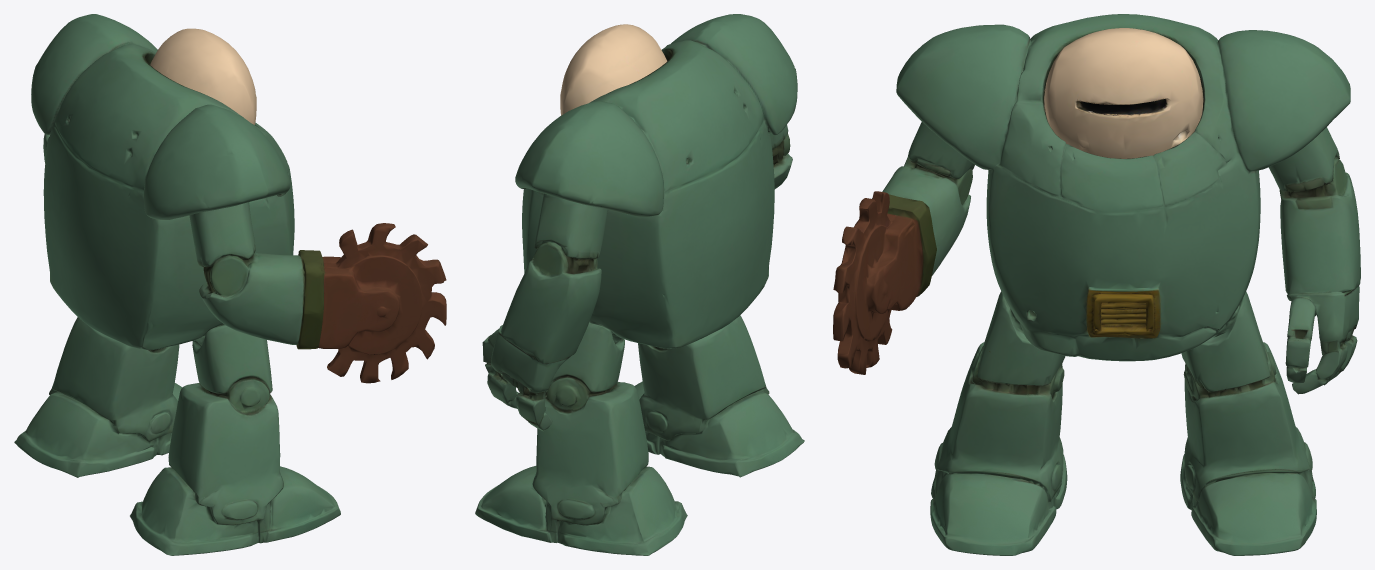
3 views of the same model, side by side, from view 1: azimuth 30°, elevation 25°; view 2: azimuth 150°, elevation 25°; view 3: azimuth 270°, elevation 25° (orthographic). The views are drawn at different scales.
Parts seen in each view (by area): view 1: tripo_node_32ba0f6c-65ed-4cb9-8685-bdfb19b47047; view 2: tripo_node_32ba0f6c-65ed-4cb9-8685-bdfb19b47047; view 3: tripo_node_32ba0f6c-65ed-4cb9-8685-bdfb19b47047.
Boxes of the visible parts, x1=… form: tripo_node_32ba0f6c-65ed-4cb9-8685-bdfb19b47047: x1=14, y1=14, x2=446, y2=555; tripo_node_32ba0f6c-65ed-4cb9-8685-bdfb19b47047: x1=475, y1=14, x2=804, y2=555; tripo_node_32ba0f6c-65ed-4cb9-8685-bdfb19b47047: x1=833, y1=14, x2=1360, y2=555.
Size of the model in its own units: 0.5783 by 1 by 0.9724.
Materials: 1 (1 with a texture image).
